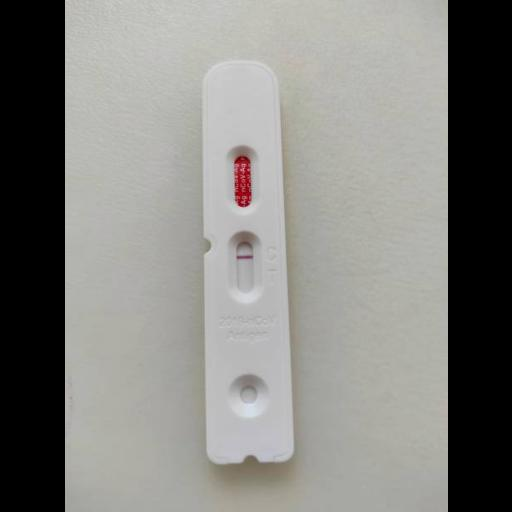Neg: (199, 60, 295, 463)
